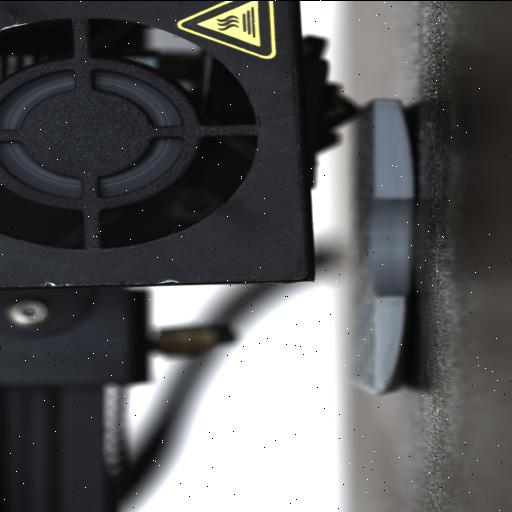warp: (374, 298, 416, 396), (384, 98, 424, 188)
